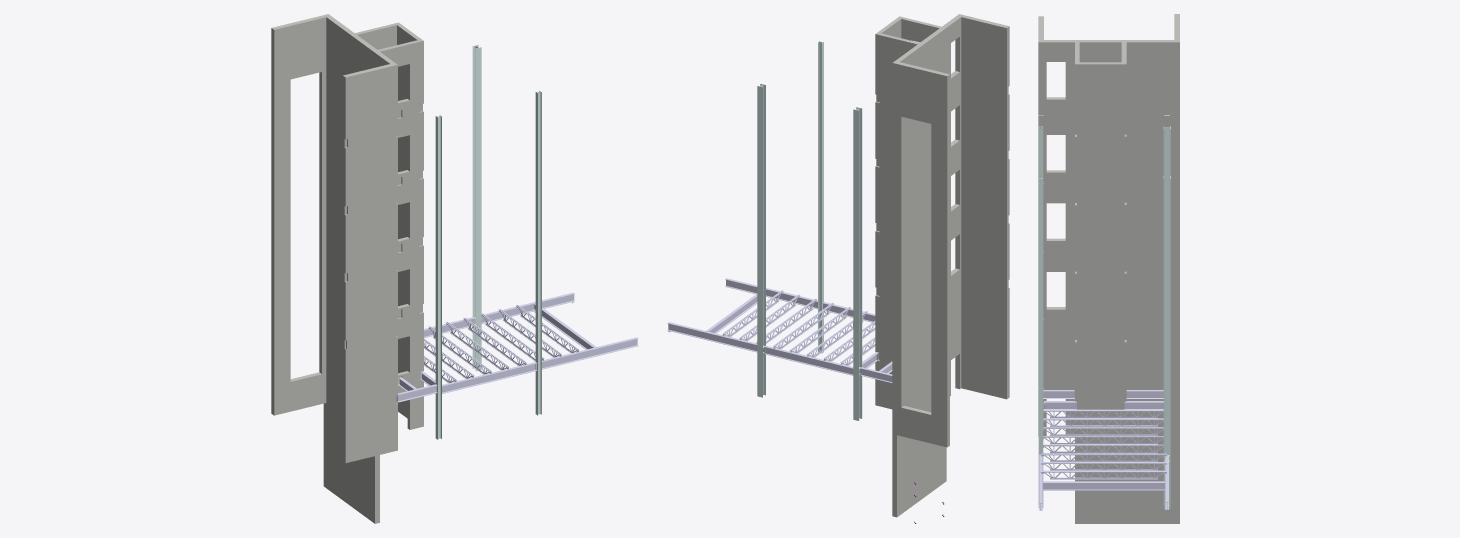
The model's file is ISSUE-006-neighbors.glb.
3 renders of one model, left to right at view 1: azimuth 30°, elevation 25°; view 2: azimuth 150°, elevation 25°; view 3: azimuth 270°, elevation 25°, orthographic. The views are drawn at different scales.
Visible parts, largest first — view 1: 3048, 3050, 3049, 5711, 3290, 3034, 3030, 3297, 3752, 3047, 3349, 3348 (+2 smaller); view 2: 3048, 3050, 3049, 3029, 3034, 3047, 3289, 3290, 3297, 3575, 3357, 3349 (+8 smaller); view 3: 3049, 3030, 3047, 3034, 3290, 3029, 3297, 4631, 3764, 3761, 3757, 3762 (+4 smaller).
Part boxes in pixels (x1,y1,x2,y2): 3048: [343, 64, 392, 463]; 3050: [271, 15, 326, 415]; 3049: [323, 14, 354, 505]; 5711: [378, 40, 423, 429]; 3290: [472, 45, 481, 370]; 3034: [350, 33, 379, 523]; 3030: [397, 24, 423, 418]; 3297: [535, 90, 541, 415]; 3752: [435, 115, 441, 439]; 3047: [375, 51, 397, 451]; 3349: [542, 337, 638, 369]; 3348: [442, 362, 537, 393]; 3048: [961, 15, 1009, 399]; 3050: [897, 62, 949, 447]; 3049: [892, 44, 922, 517]; 3029: [875, 32, 919, 409]; 3034: [918, 26, 946, 498]; 3047: [942, 14, 963, 396]; 3289: [853, 107, 862, 420]; 3290: [757, 83, 765, 397]; 3297: [818, 41, 823, 353]; 3575: [667, 322, 757, 352]; 3357: [764, 345, 853, 375]; 3349: [725, 278, 817, 309]; 3049: [1126, 40, 1179, 523]; 3030: [1075, 62, 1121, 458]; 3047: [1038, 40, 1074, 436]; 3034: [1075, 40, 1126, 523]; 3290: [1163, 176, 1170, 508]; 3029: [1121, 42, 1126, 458]; 3297: [1038, 176, 1043, 507]; 4631: [1043, 481, 1164, 490]; 3764: [1041, 470, 1166, 479]; 3761: [1043, 444, 1163, 453]; 3757: [1043, 409, 1163, 418]; 3762: [1041, 453, 1166, 461].
Bounding box in the file's own units: 26.98 × 28.58 × 21.92.
